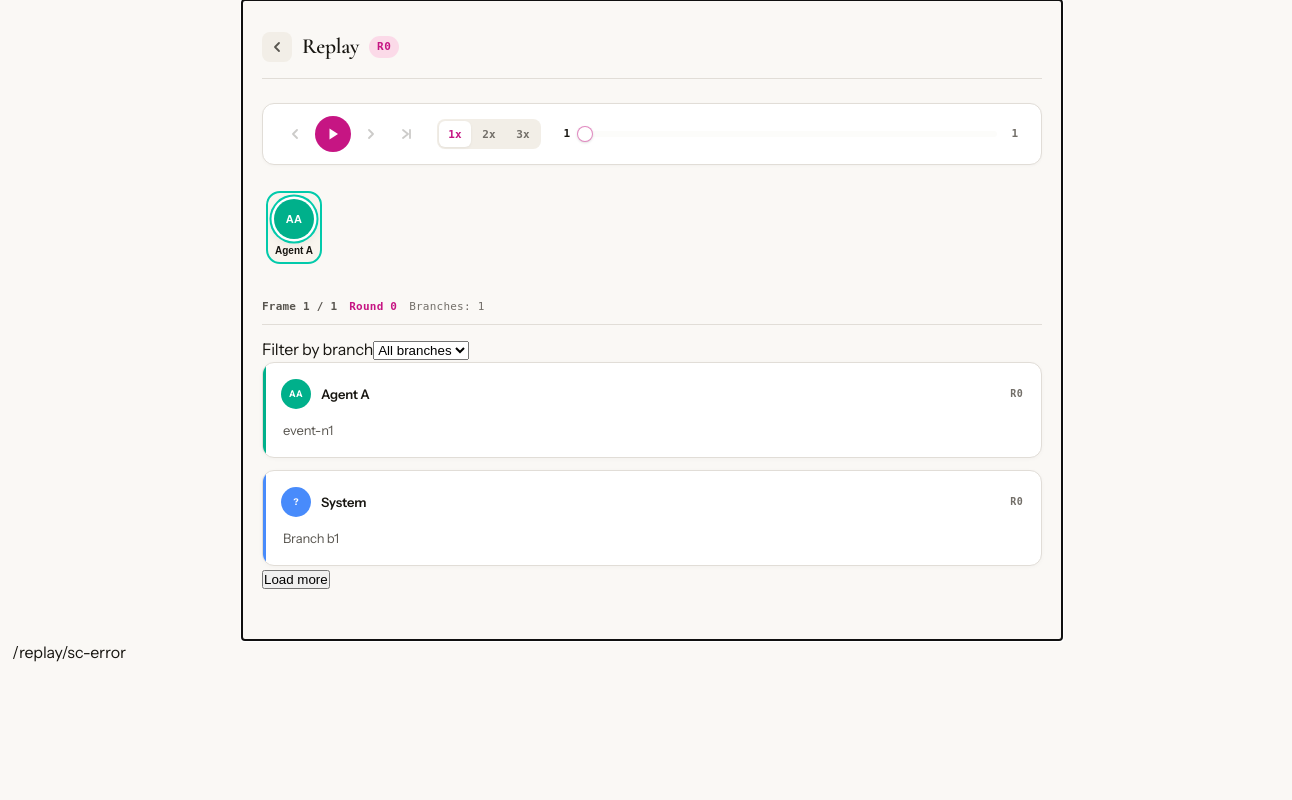
it: ReplayView — pagination (cursor-based load more) › keeps button enabled and shows inline error when load-more fails
Click the button with test id "replay-load-more" at point(296, 580), box 262,570 -> 330,589
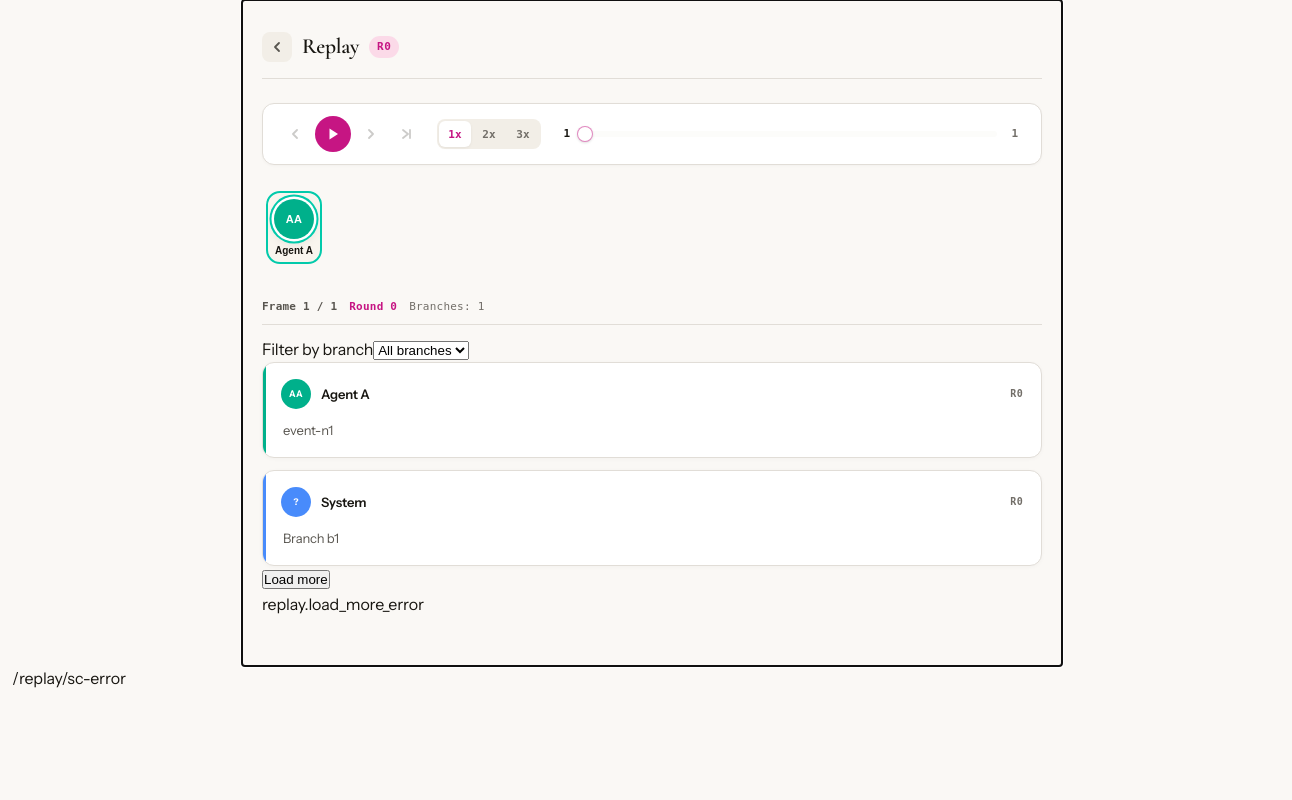
Expected: the message "replay.load_more_error" is shown, 262,594 -> 424,614
